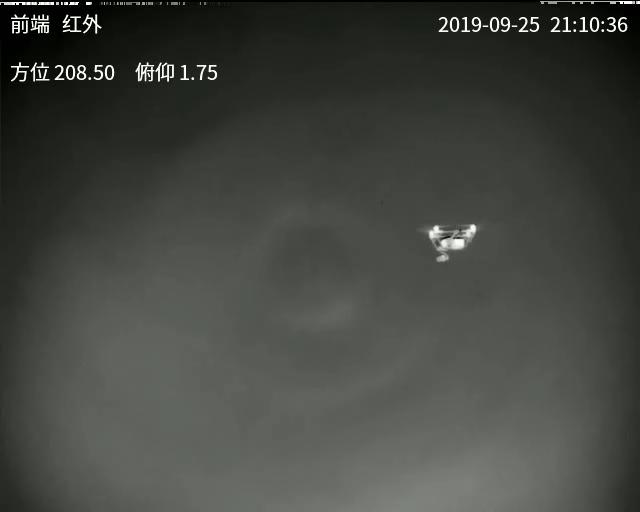uav: (425, 221, 478, 265)
